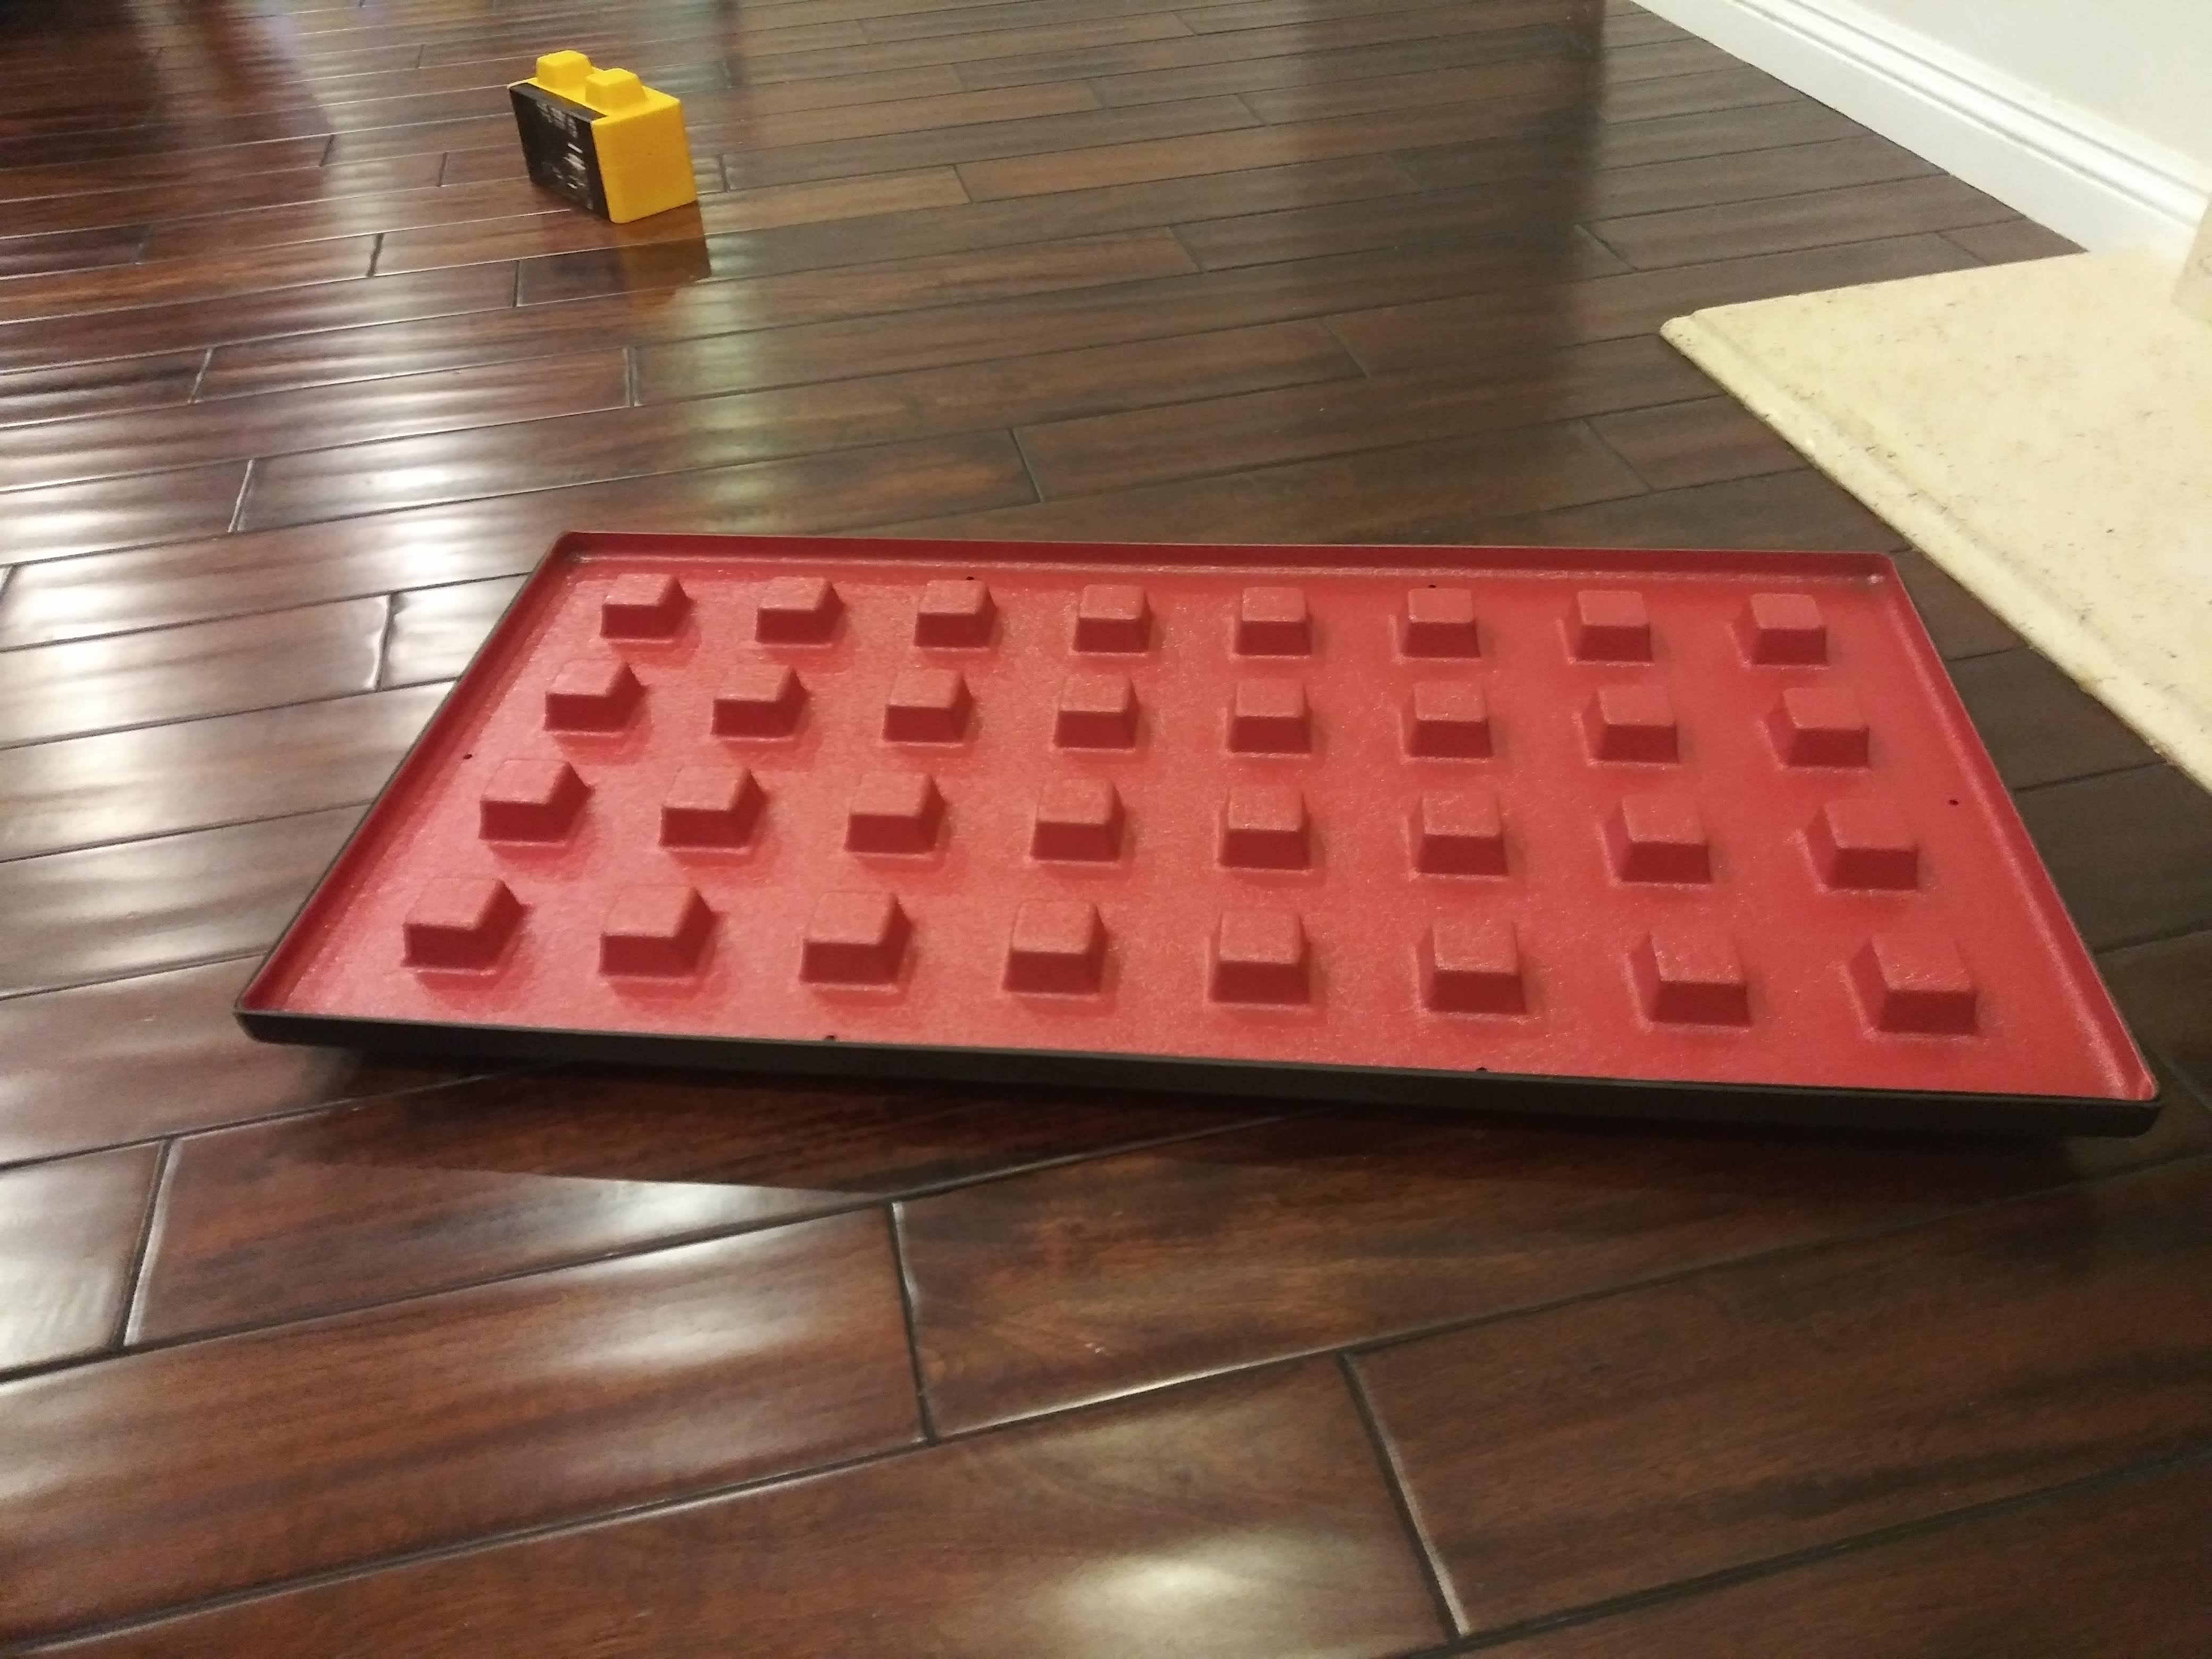red foundation: (226, 429, 2175, 1168)
